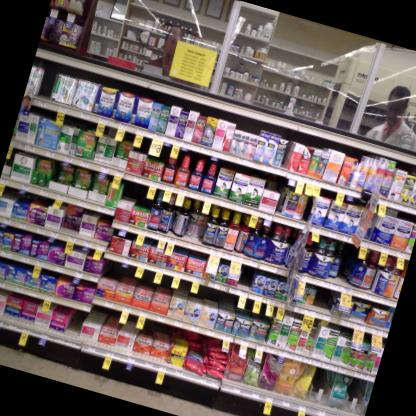empty_space: (64, 301, 88, 338), (334, 244, 355, 283), (36, 66, 58, 103), (309, 368, 331, 402), (347, 378, 368, 412), (311, 285, 332, 313), (235, 265, 254, 293)
